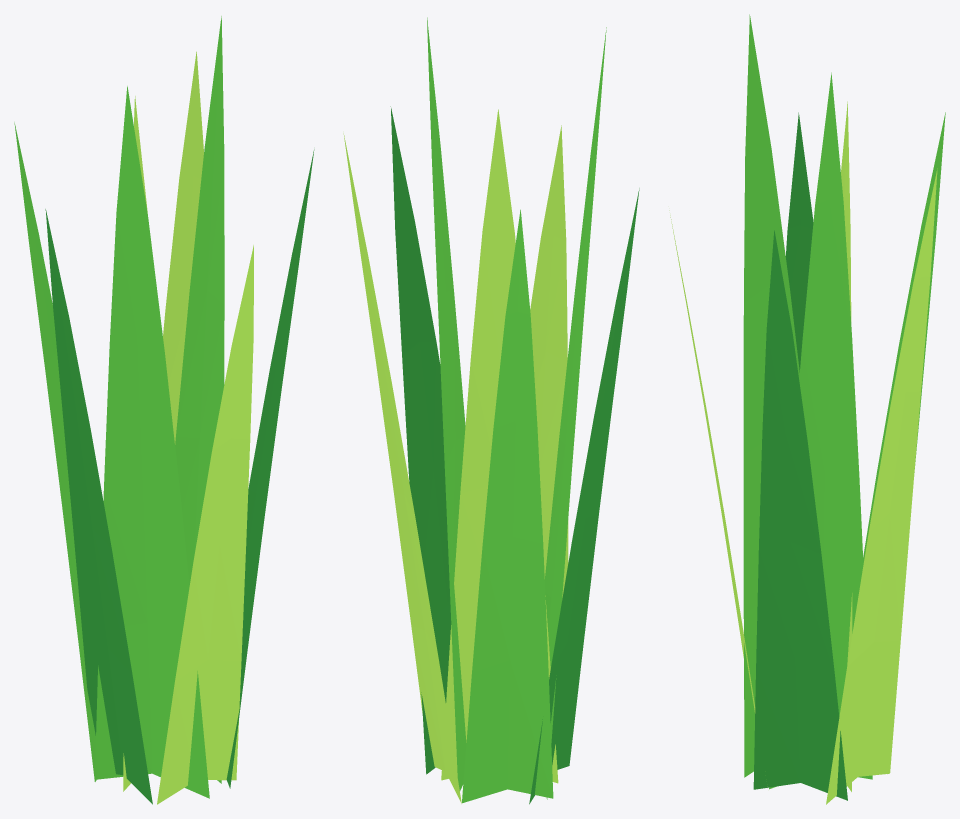
Rendered from ForestGrassColor.obj.
3 views of the same model, side by side, from view 1: azimuth 30°, elevation 25°; view 2: azimuth 150°, elevation 25°; view 3: azimuth 270°, elevation 25° (orthographic). The views are drawn at different scales.
Parts seen in each view (by area): view 1: ForestGrassColor; view 2: ForestGrassColor; view 3: ForestGrassColor.
Part boxes in pixels (box(x1,y1,x2,y2)): ForestGrassColor: box(14, 16, 314, 804); ForestGrassColor: box(343, 17, 639, 804); ForestGrassColor: box(669, 14, 945, 804).
Size of the model in its own units: 0.36 by 0.99 by 0.34.
3 materials, 3 textured.
